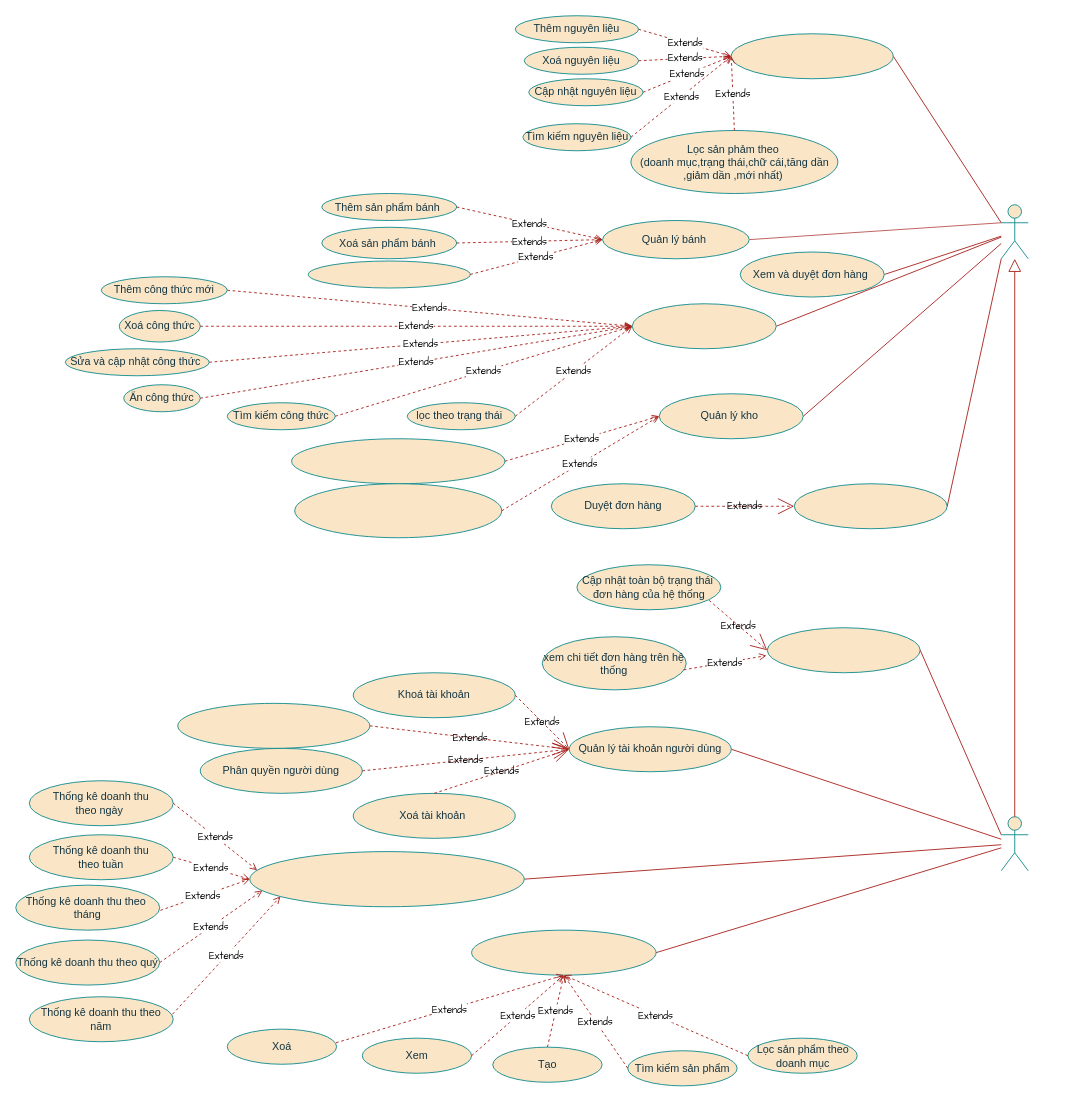
Image size: 1081x1102. Some labels were removed from this diagram. Here are the shapes that lost their labels. From the top down, the centre of each, then its label:
At (811,56): "Quản lý nguyên liệu".
At (1014,231): "Quản lý".
At (388,274): "Cập nhật sản phẩm bánh".
At (703,326): "Quản lý công thức".
At (398,461): "Thống kê sản phẩm bánh (tỷ lệ,tổng số,đã bán,chưa bán...)".
At (398,510): "Thống kê nguyên liệu (tỷ lệ,tổng số,đã bán,chưa bán...)".
At (870,506): "Xem đơn hàng làm bánh".
At (843,650): "Quản lý đơn hàng tổng quan hệ thống".
At (273,725): "tạo tài khoản mới cho (admin,quản lý,nhân viên,giao hàng)".
At (1014,843): "Quản trị viên (Admin)".
At (386,879): "Thống kê doanh thu (theo dõi doanh thu hiệu xuất kinh doanh)".
At (563,952): "Quản lý flash sale".
